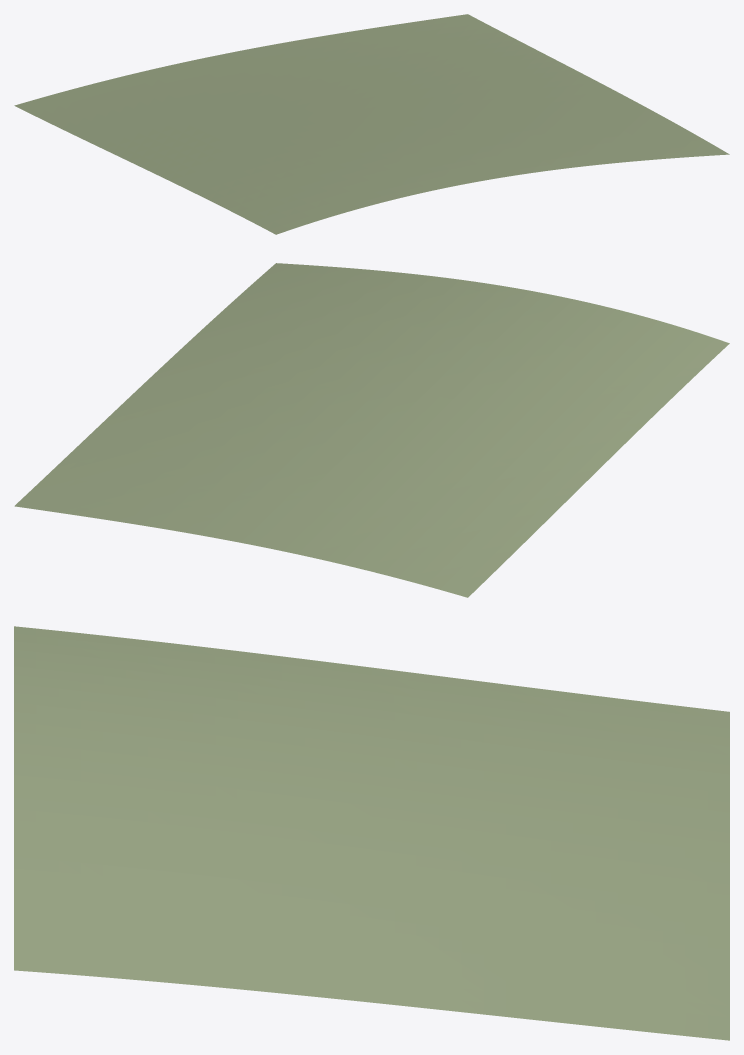
Rendered from expanse-17-16.glb.
3 views of the same model, one above another, from view 1: azimuth 30°, elevation 25°; view 2: azimuth 150°, elevation 25°; view 3: azimuth 270°, elevation 25° (orthographic). The views are drawn at different scales.
Parts seen in each view (by area): view 1: expanse-17-16; view 2: expanse-17-16; view 3: expanse-17-16.
Part boxes in pixels (x1=…): expanse-17-16: x1=14, y1=14, x2=729, y2=234; expanse-17-16: x1=14, y1=263, x2=729, y2=597; expanse-17-16: x1=14, y1=626, x2=729, y2=1040.
Size of the model in its own units: 256 by 47.58 by 256.
